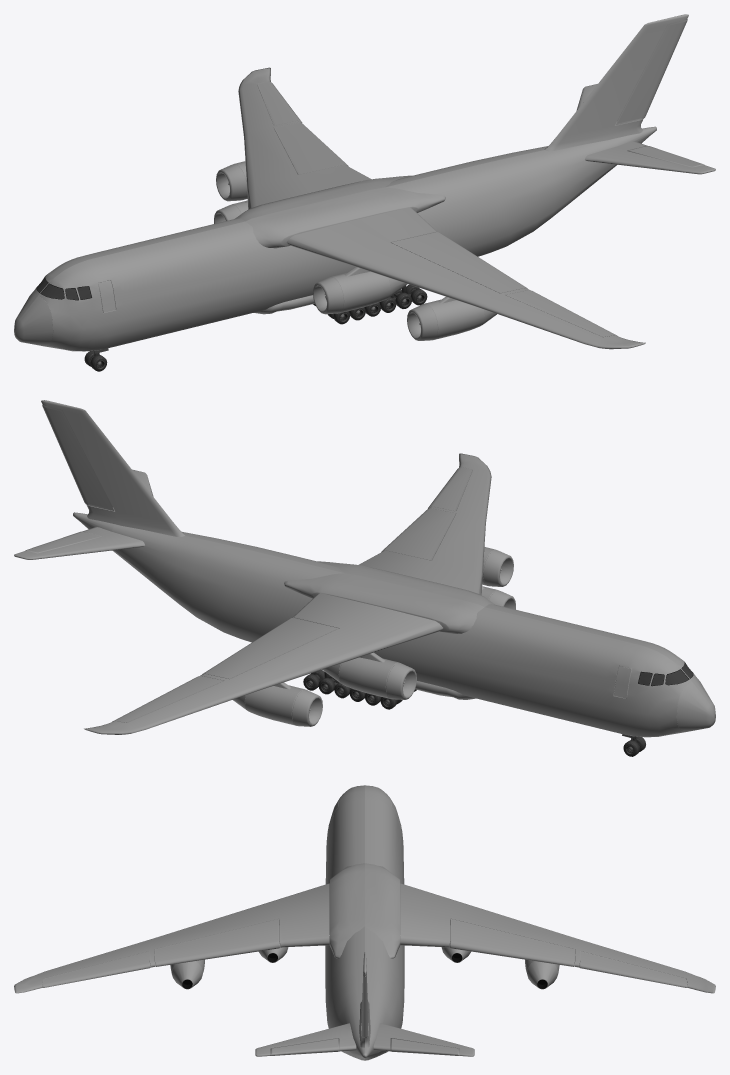
Rendered from airplane_d.FBX.
3 views of the same model, one above another, from view 1: azimuth 30°, elevation 25°; view 2: azimuth 150°, elevation 25°; view 3: azimuth 270°, elevation 25° (orthographic). The views are drawn at different scales.
Parts seen in each view (by area): view 1: Object008; view 2: Object008; view 3: Object008.
Part boxes in pixels (x1,y1,x2,y2): Object008: (14,14,715,371); Object008: (14,400,715,756); Object008: (14,785,715,1060).
Bounding box in the file's own units: 45.34 × 13.51 × 44.01.
